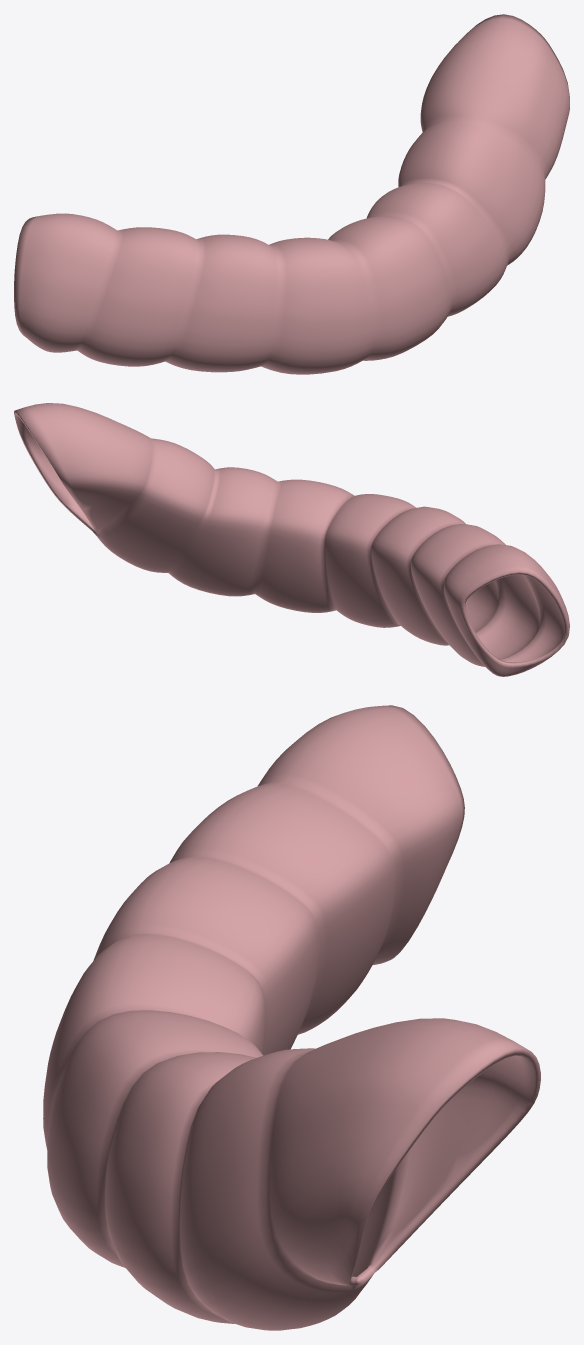
3 views of the same model, one above another, from view 1: azimuth 30°, elevation 25°; view 2: azimuth 150°, elevation 25°; view 3: azimuth 270°, elevation 25° (orthographic). The views are drawn at different scales.
Parts seen in each view (by area): view 1: ZA_fc01578188b5b6ca; view 2: ZA_fc01578188b5b6ca; view 3: ZA_fc01578188b5b6ca.
Boxes of the visible parts, bbox=[...] form: ZA_fc01578188b5b6ca: bbox=[14, 14, 569, 374]; ZA_fc01578188b5b6ca: bbox=[14, 403, 569, 676]; ZA_fc01578188b5b6ca: bbox=[43, 705, 540, 1330].
Bounding box in the file's own units: 0.1864 × 0.0684 × 0.0753.
